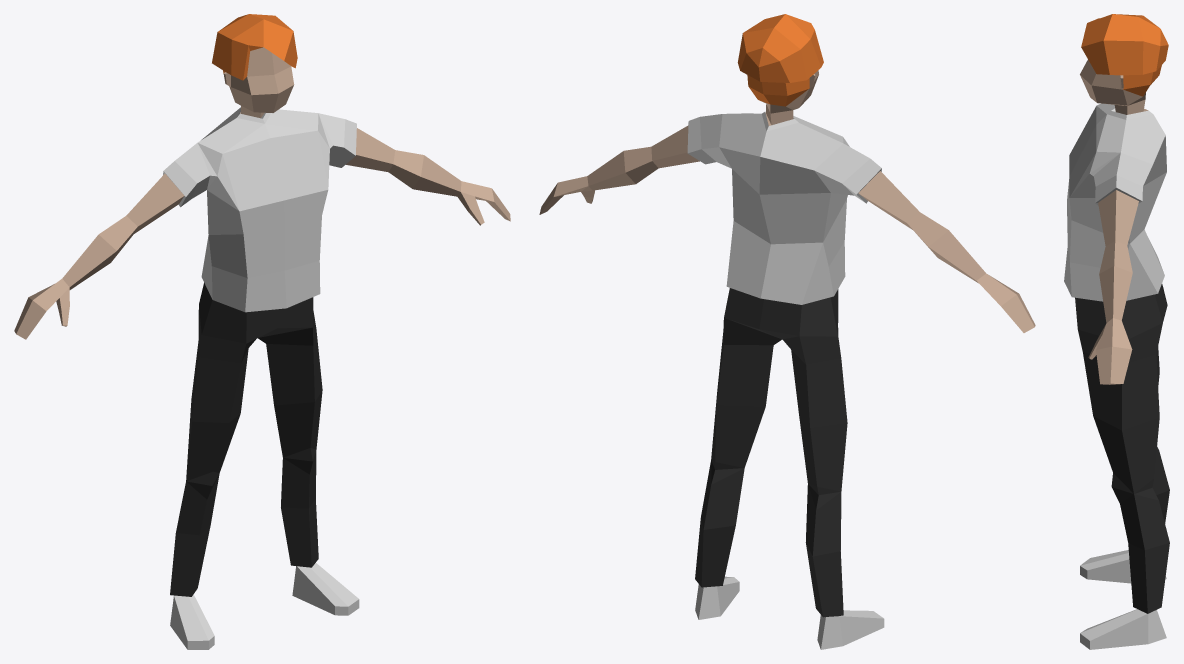
Rendered from f_player.fbx.
3 views of the same model, side by side, from view 1: azimuth 30°, elevation 25°; view 2: azimuth 150°, elevation 25°; view 3: azimuth 270°, elevation 25° (orthographic).
Visible parts, largest first — view 1: Cube; view 2: Cube; view 3: Cube.
Boxes of the visible parts, <box> form: Cube: <box>14,14,510,649</box>; Cube: <box>539,14,1035,649</box>; Cube: <box>1064,14,1169,649</box>.
Bounding box in the file's own units: 149 × 173 × 27.94.
